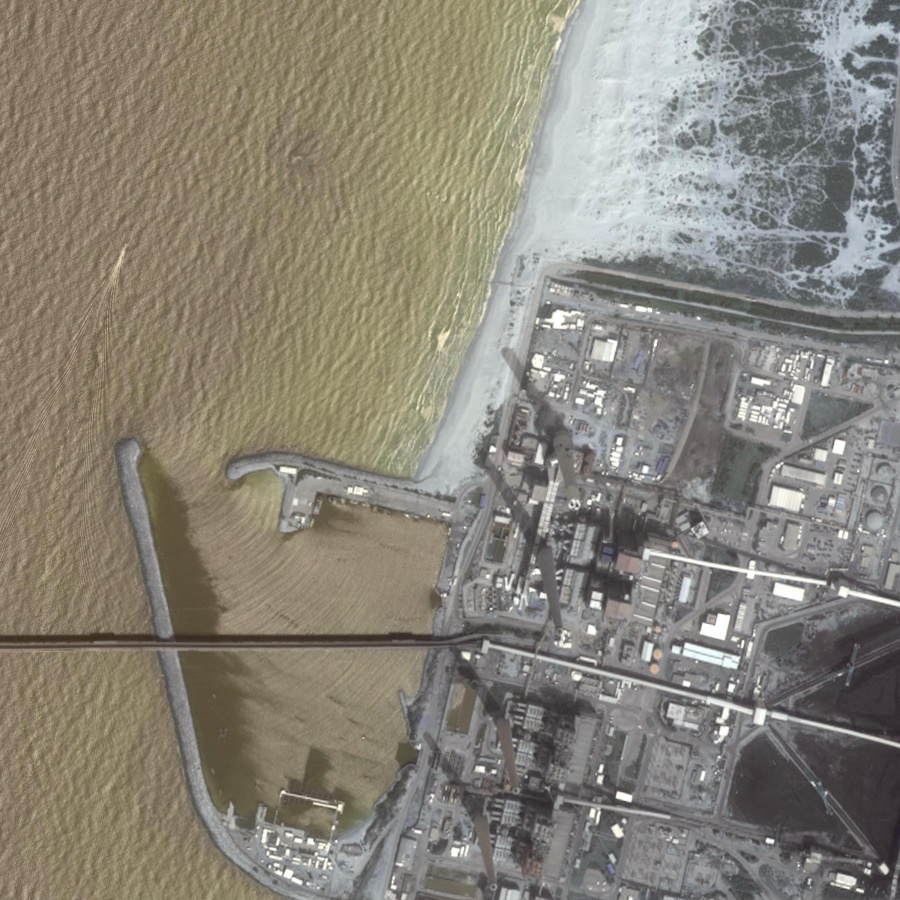PowerPlant: (390, 477, 651, 898)
